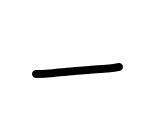minus: (31, 64, 124, 78)
